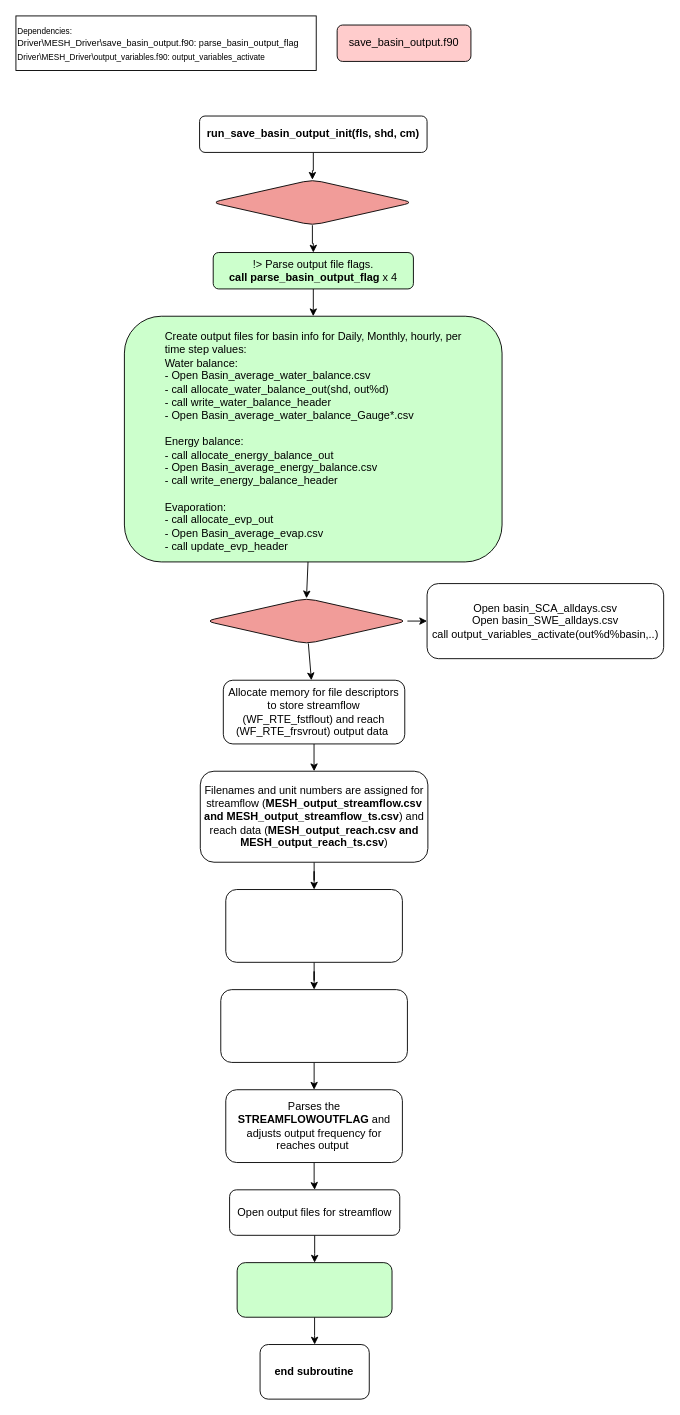
The diagram is 680 pixels wide and 1415 high, and some of its shapes have lost their labels. Here are the shapes that lost their labels. From the top down, the box of each, then its label:
(211, 179, 413, 225): Is head node
(205, 597, 407, 644): if (btest(bnoflg%swe%t, 0))
(225, 889, 402, 962): Parses the REACHOUTFLAG and adjusts output frequency for reaches output
(220, 989, 407, 1062): - Open output files for reaches - Open output File for Lake Levels
(236, 1262, 392, 1317): !> Allocate output variables call call output_variables_activate
